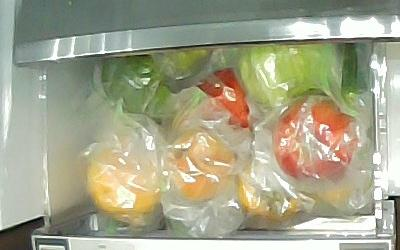apple_vinyl: (273, 92, 355, 178)
broccoli_vinyl: (100, 39, 216, 117)
grapefruit_vinyl: (86, 146, 161, 214)
lettuce_vinyl: (239, 43, 349, 100)
paprika_vinyl: (197, 68, 250, 130)
peach_vinyl: (165, 129, 235, 200)
persimmon_vinyl: (238, 169, 301, 220)
